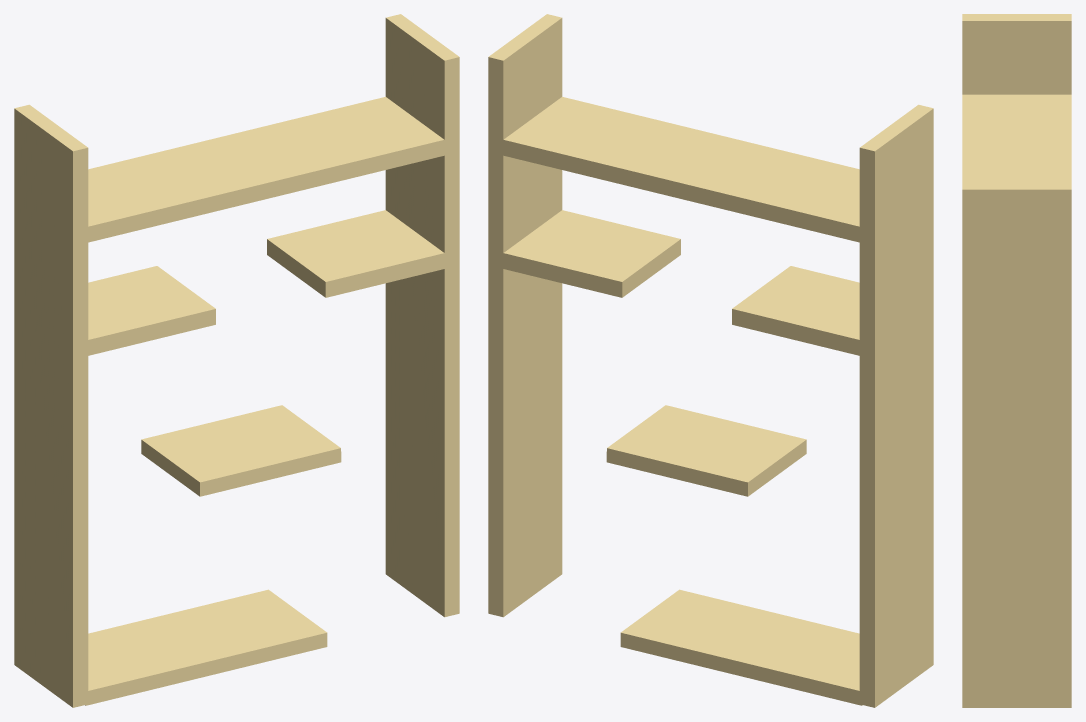
3 views of the same model, side by side, from view 1: azimuth 30°, elevation 25°; view 2: azimuth 150°, elevation 25°; view 3: azimuth 270°, elevation 25° (orthographic). The views are drawn at different scales.
Parts seen in each view (by area): view 1: Wall__5_, Wall__7_, Wall_8__6_, Wall_8__2_, Wall_8__3_, Wall_8__7_, Wall_8__8_; view 2: Wall__5_, Wall__7_, Wall_8__6_, Wall_8__2_, Wall_8__3_, Wall_8__7_, Wall_8__8_; view 3: Wall__7_, Wall_8__6_, Wall__5_.
Boxes of the visible parts, x1,y1,x2,y2 form: Wall__5_: (14, 104, 88, 707); Wall__7_: (385, 14, 459, 617); Wall_8__6_: (83, 96, 446, 243); Wall_8__2_: (85, 589, 327, 705); Wall_8__3_: (141, 405, 340, 496); Wall_8__7_: (267, 210, 459, 297); Wall_8__8_: (82, 266, 215, 357); Wall__5_: (859, 104, 933, 707); Wall__7_: (488, 14, 562, 617); Wall_8__6_: (501, 96, 864, 243); Wall_8__2_: (620, 589, 862, 705); Wall_8__3_: (607, 405, 806, 496); Wall_8__7_: (488, 210, 680, 297); Wall_8__8_: (732, 266, 865, 357); Wall__7_: (962, 182, 1071, 707); Wall_8__6_: (962, 94, 1071, 182); Wall__5_: (962, 14, 1071, 94).
Bounding box in the file's own units: 407 × 561 × 107.
